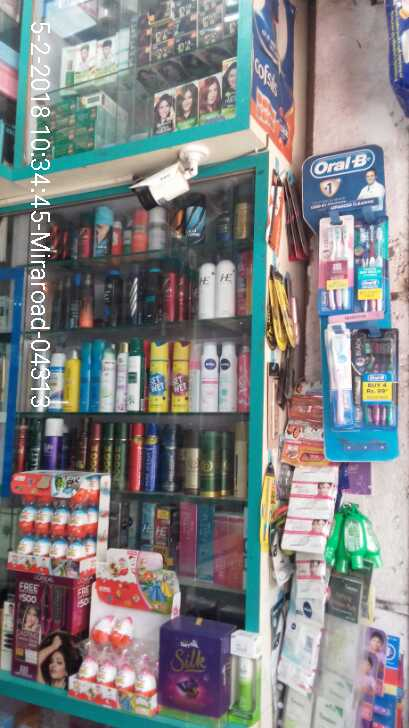oralb: (353, 330, 400, 431), (355, 211, 394, 316), (321, 329, 354, 426), (317, 220, 350, 311)
